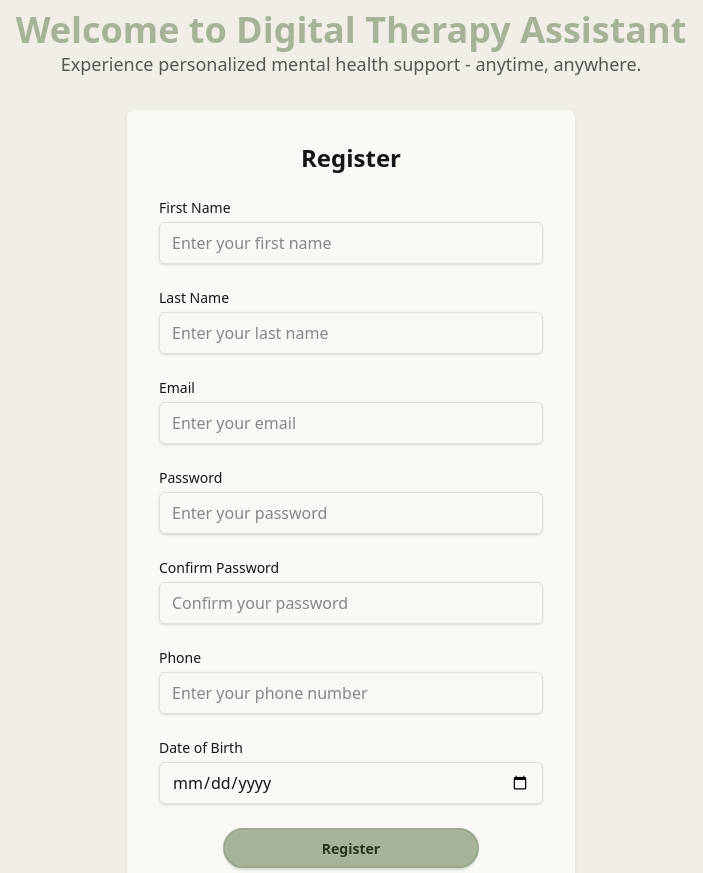
RegistrationForm - Successful Submission › submits the form successfully with matching passwords
# Fill out all required fields with valid data
Type "John" into the field labelled "First Name".
click(351, 243); type("John")  # box [159,222,543,264]
Type "Doe" into the field labelled "Last Name".
click(351, 333); type("Doe")  # box [159,312,543,354]
Type "john@example.com" into the field labelled "Email".
click(351, 423); type("john@example.com")  # box [159,402,543,444]
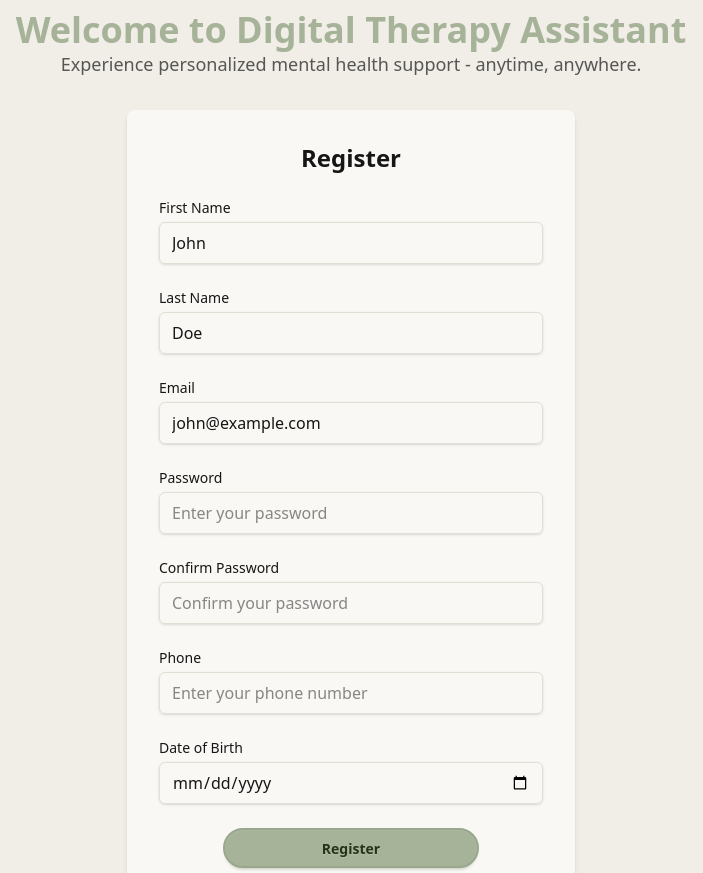
Type "password123" into the password field labelled "Password".
click(351, 513); type("password123")  # box [159,492,543,534]
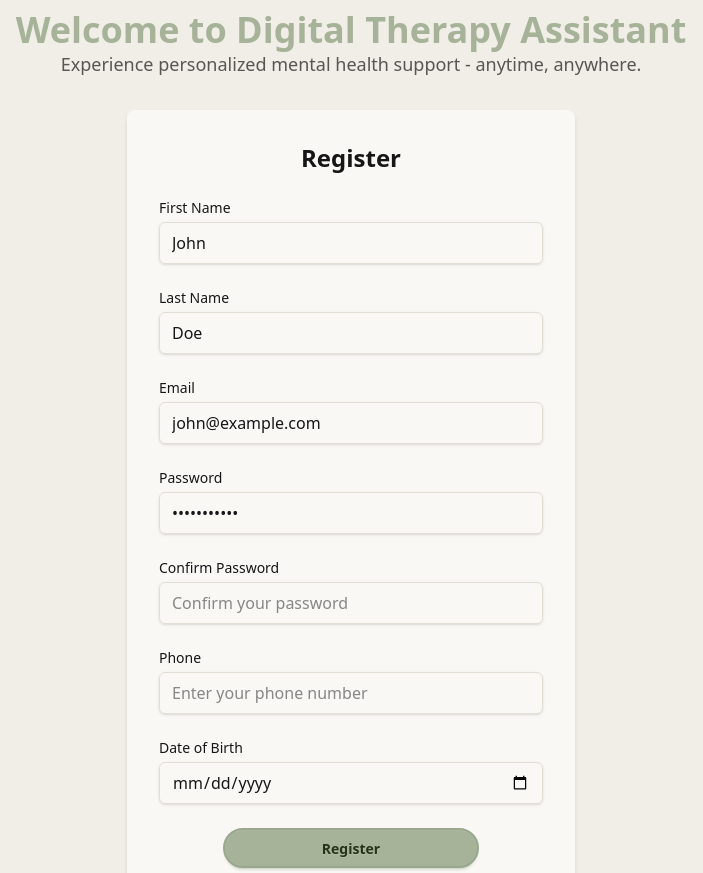
Type "password123" into the password field labelled "Confirm Password".
click(351, 603); type("password123")  # box [159,582,543,624]
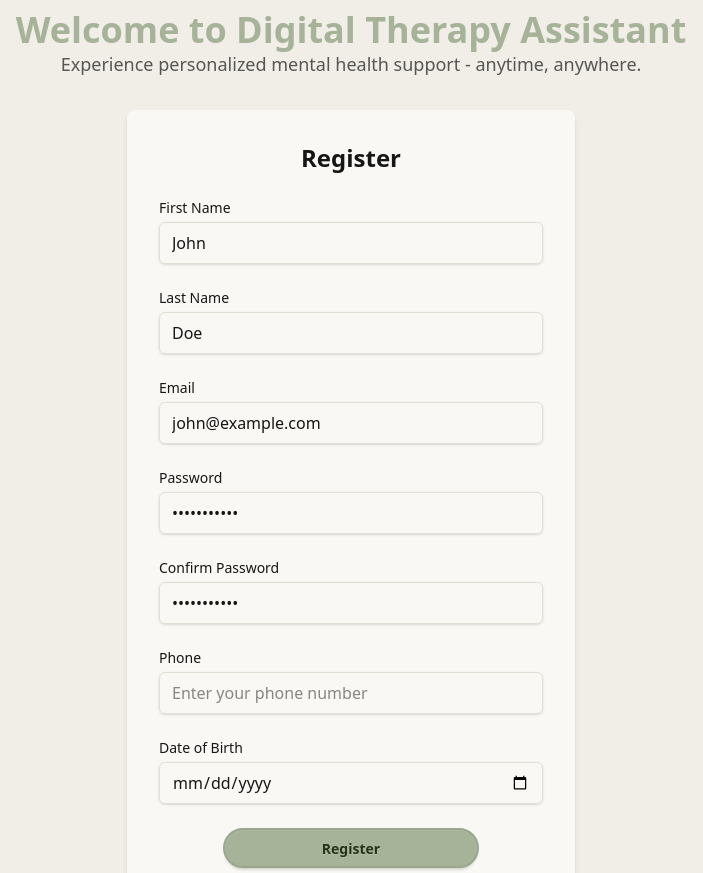
# (Optional) Fill out phone & date of birth
Type "1234567890" into the field labelled "Phone".
click(351, 693); type("1234567890")  # box [159,672,543,714]
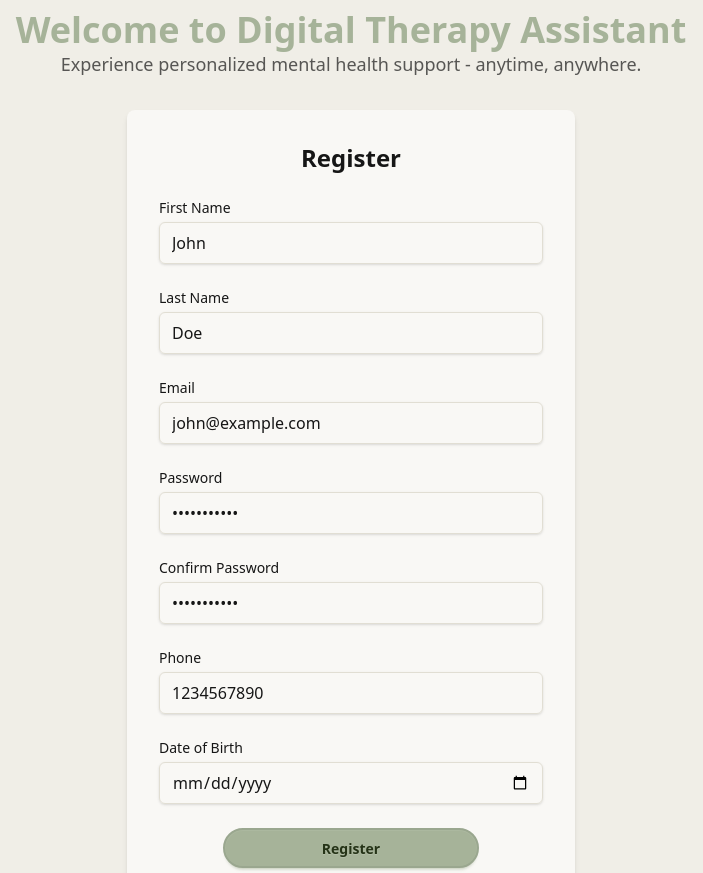
Type "1990-01-01" into the date field labelled "Date of Birth".
click(351, 783); type("1990-01-01")  # box [159,762,543,804]
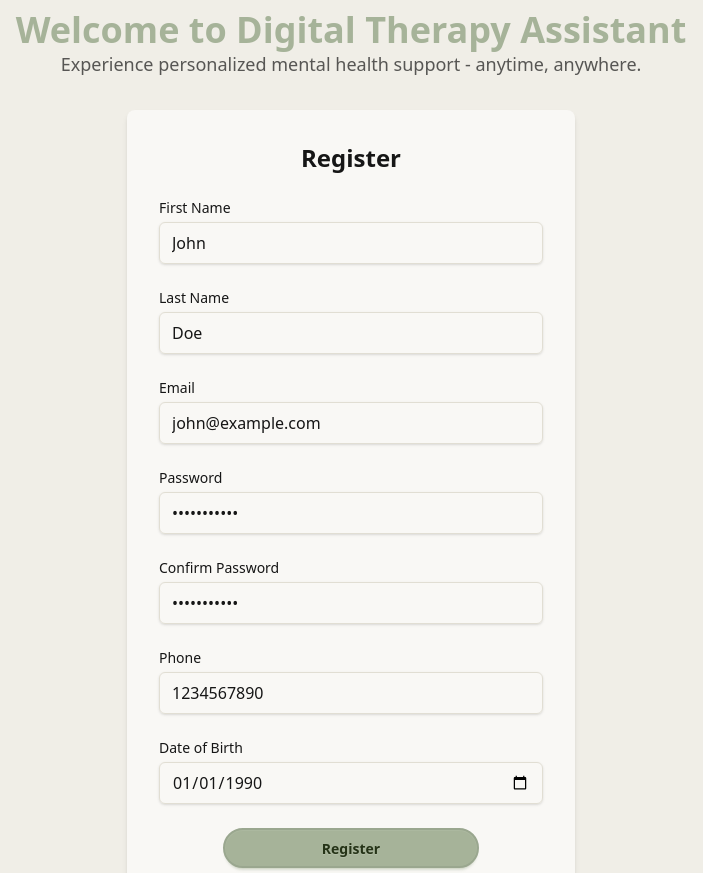
# Submit the form
Click the button "Register".
click(351, 848)  # box [223,828,479,868]
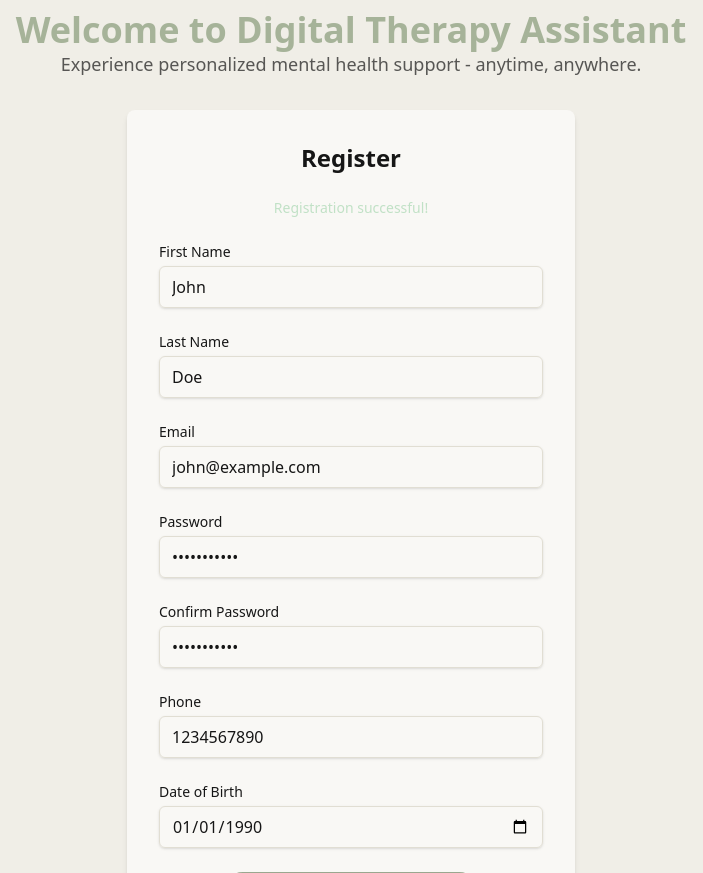
Check: the text "Registration successful!" is shown, box [274,198,428,217]
